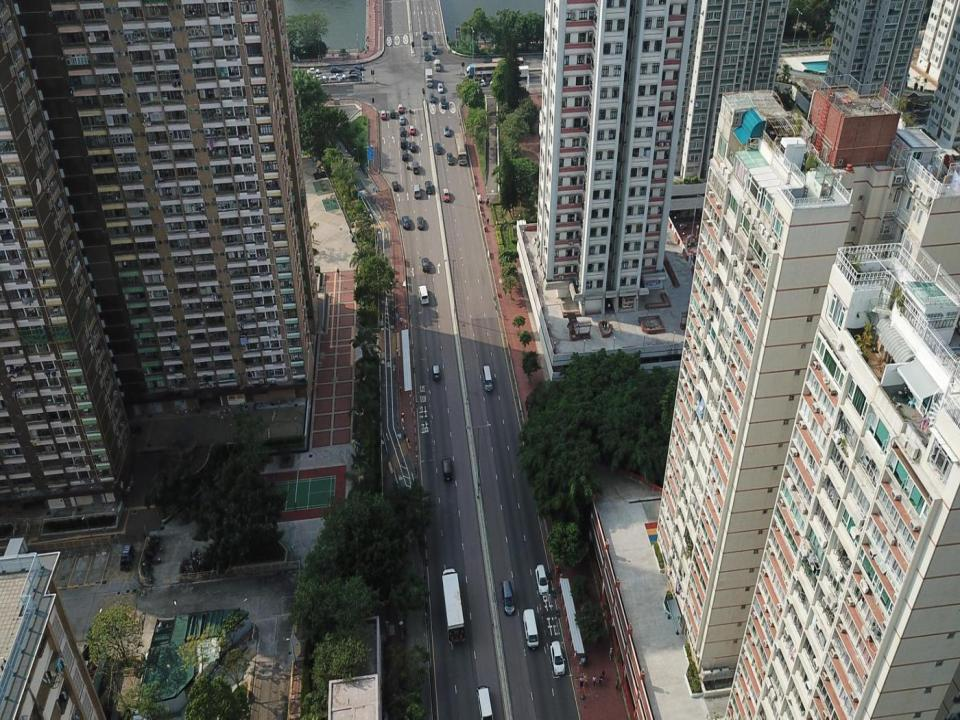bus: (472, 62, 509, 84), (490, 56, 524, 73)
car: (500, 579, 516, 616), (550, 640, 566, 675), (118, 543, 136, 572), (535, 564, 549, 596), (441, 456, 453, 482), (431, 363, 441, 381), (420, 257, 431, 272), (348, 73, 363, 83), (312, 73, 327, 83), (401, 215, 411, 229), (412, 184, 421, 198), (329, 65, 343, 74), (306, 67, 320, 76), (442, 187, 450, 202), (334, 72, 346, 82), (348, 68, 361, 77), (424, 180, 432, 194), (409, 140, 417, 154), (440, 94, 447, 110), (329, 75, 340, 85), (391, 180, 400, 192), (446, 152, 454, 165), (400, 149, 408, 162), (398, 135, 406, 148), (442, 124, 450, 137), (436, 81, 444, 94), (473, 78, 486, 86), (350, 71, 363, 79), (351, 65, 364, 73), (412, 162, 420, 174), (434, 142, 442, 154), (417, 216, 424, 229), (423, 49, 430, 62), (398, 126, 406, 137), (408, 124, 416, 135), (388, 108, 396, 119), (421, 28, 428, 40), (398, 115, 406, 125), (397, 103, 404, 114), (428, 92, 435, 103), (380, 108, 386, 120), (432, 43, 437, 54)
truck: (442, 568, 466, 644), (454, 132, 468, 166), (464, 62, 484, 80), (514, 65, 530, 81), (424, 68, 434, 88)
van: (522, 608, 540, 648), (476, 684, 494, 719), (481, 364, 493, 392), (418, 284, 430, 305), (432, 58, 442, 72)
